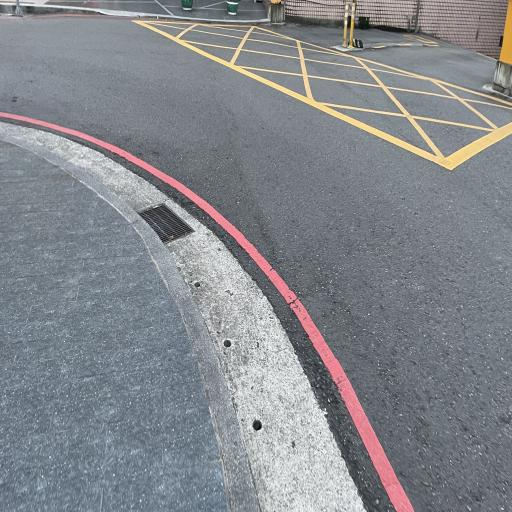redline: (0, 94, 416, 505), (23, 2, 133, 30)
